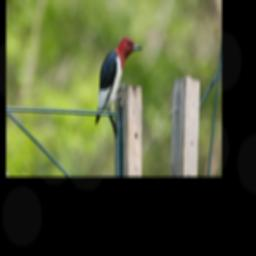Woodpecker: (95, 37, 143, 125)
